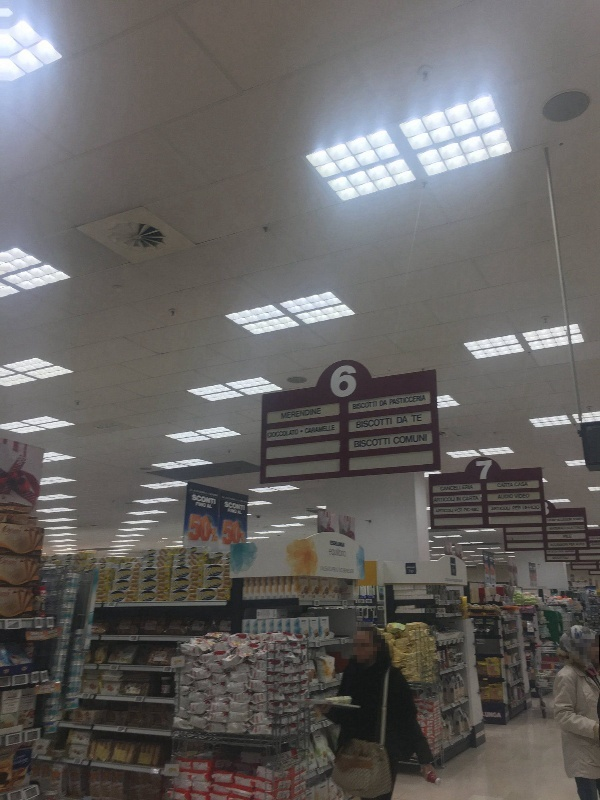text: (337, 364, 352, 399), (193, 514, 208, 542), (225, 520, 240, 545), (209, 514, 219, 542), (481, 461, 492, 480), (369, 418, 384, 430), (305, 408, 321, 419), (331, 364, 336, 399), (401, 433, 416, 444), (289, 408, 304, 419), (193, 494, 208, 505), (369, 438, 384, 449), (401, 395, 416, 405), (356, 418, 368, 430), (355, 438, 368, 449), (353, 364, 357, 399), (225, 501, 240, 510), (305, 424, 320, 433), (273, 429, 288, 438), (321, 424, 335, 433), (241, 520, 246, 545), (353, 402, 368, 410), (321, 566, 336, 574), (337, 566, 352, 574), (417, 433, 427, 444), (390, 395, 400, 405), (417, 395, 426, 405), (449, 485, 464, 491), (449, 496, 464, 502), (513, 494, 528, 500), (289, 429, 299, 438), (228, 508, 240, 515), (196, 502, 208, 509), (385, 418, 392, 430), (465, 496, 479, 502), (337, 549, 346, 558), (435, 496, 448, 502), (499, 494, 512, 500), (281, 408, 288, 419), (209, 494, 216, 505), (476, 461, 480, 480), (449, 508, 464, 513), (513, 483, 528, 488), (465, 508, 479, 513), (498, 483, 512, 488), (394, 433, 400, 444), (369, 402, 377, 410), (329, 549, 336, 558), (497, 506, 512, 510), (513, 506, 528, 510), (561, 518, 576, 522), (561, 543, 576, 547), (401, 416, 408, 424), (337, 541, 345, 548), (385, 438, 390, 449), (437, 508, 448, 513), (465, 485, 473, 491), (548, 518, 560, 522), (411, 414, 416, 423), (417, 414, 422, 423), (561, 527, 576, 530), (529, 506, 540, 510), (441, 485, 448, 491), (563, 535, 576, 538), (241, 501, 245, 510), (551, 543, 560, 547), (268, 429, 272, 438), (331, 541, 336, 548), (577, 543, 585, 547), (550, 527, 560, 530), (191, 514, 192, 542), (561, 551, 574, 553), (397, 416, 400, 424), (577, 518, 583, 522), (548, 551, 560, 553), (209, 502, 212, 509), (577, 527, 584, 530), (380, 401, 384, 406), (492, 506, 496, 510), (552, 557, 560, 559), (385, 401, 388, 406), (561, 557, 568, 559), (300, 430, 304, 433), (353, 566, 354, 574), (529, 494, 530, 500)
